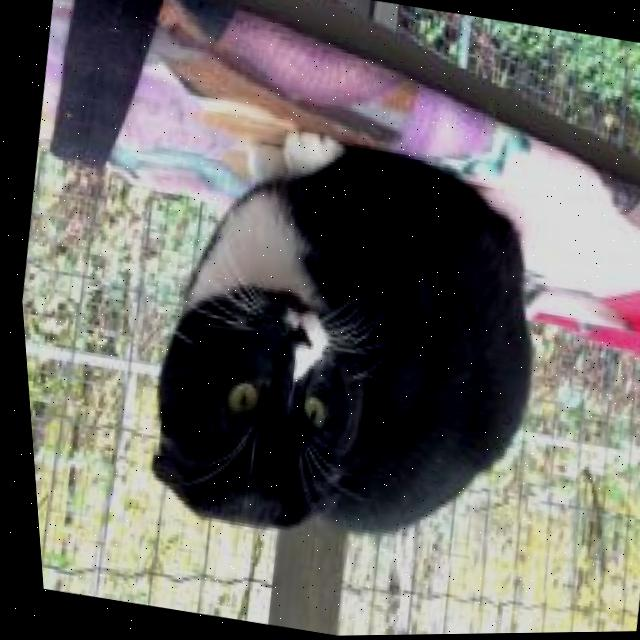Scottish Fold: (106, 98, 579, 582)
